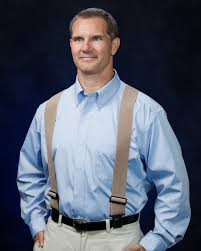F_belt: (36, 207, 153, 234)
F_shirt: (21, 80, 189, 244)
